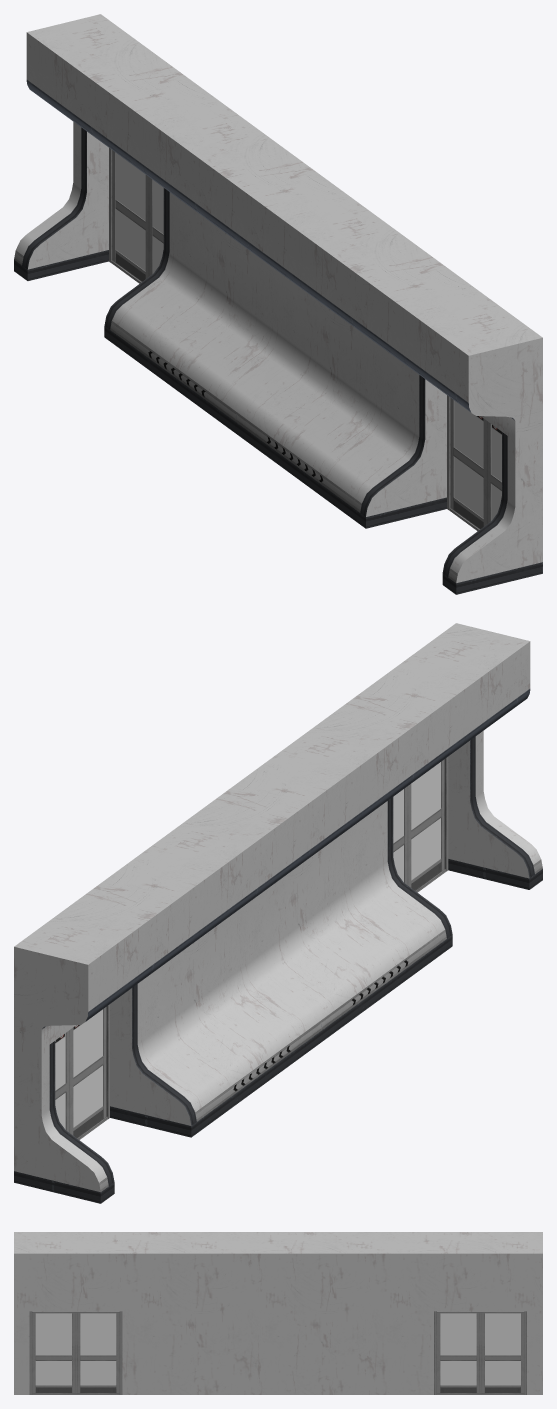
The model's file is CP_Metro_Block_Big.fbx.
The picture shows the model from 3 angles, top to bottom: view 1: azimuth 30°, elevation 25°; view 2: azimuth 150°, elevation 25°; view 3: azimuth 270°, elevation 25°; orthographic projection. The views are drawn at different scales.
Visible parts, largest first — view 1: CP_Metro_Block_Big, CP_Metro_Door_03, CP_Metro_Door_05, CP_Metro_Door_04, CP_Metro_Door_06; view 2: CP_Metro_Block_Big, CP_Metro_Door_06, CP_Metro_Door_04, CP_Metro_Door_05, CP_Metro_Door_03; view 3: CP_Metro_Block_Big, CP_Metro_Door_04, CP_Metro_Door_05, CP_Metro_Door_03, CP_Metro_Door_06.
Boxes of the visible parts, x1,y1,x2,y2 form: CP_Metro_Block_Big: (14, 14, 542, 594); CP_Metro_Door_03: (450, 398, 487, 529); CP_Metro_Door_05: (112, 150, 148, 281); CP_Metro_Door_04: (487, 421, 501, 523); CP_Metro_Door_06: (149, 177, 163, 276); CP_Metro_Block_Big: (14, 623, 542, 1203); CP_Metro_Door_06: (70, 1007, 106, 1137); CP_Metro_Door_04: (408, 759, 444, 890); CP_Metro_Door_05: (55, 1030, 69, 1132); CP_Metro_Door_03: (393, 786, 407, 884); CP_Metro_Block_Big: (14, 1232, 542, 1394); CP_Metro_Door_04: (32, 1312, 76, 1392); CP_Metro_Door_05: (480, 1312, 524, 1392); CP_Metro_Door_03: (76, 1312, 119, 1392); CP_Metro_Door_06: (437, 1312, 480, 1392).
Bounding box in the file's own units: 193 × 501 × 1700.
